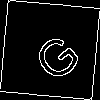G: (25, 25, 84, 85)
